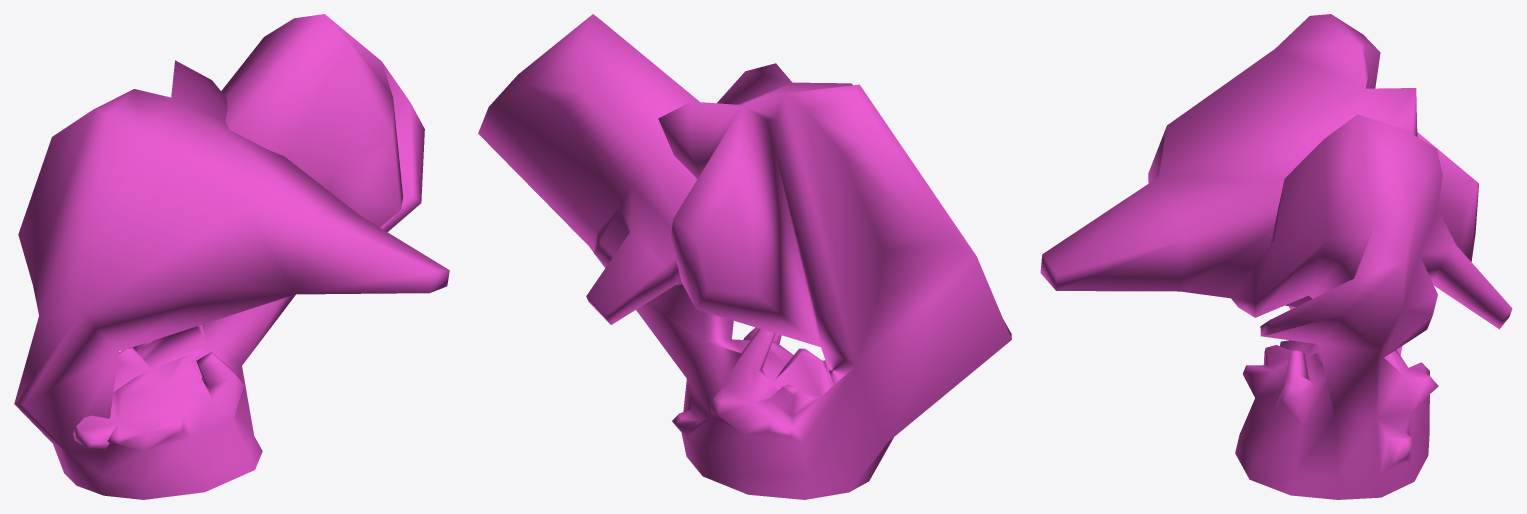
The model's file is jvacka.fbx.
The picture shows the model from 3 angles, left to right: view 1: azimuth 30°, elevation 25°; view 2: azimuth 150°, elevation 25°; view 3: azimuth 270°, elevation 25°; orthographic projection. The views are drawn at different scales.
Parts seen in each view (by area): view 1: Куб; view 2: Куб; view 3: Куб.
Boxes of the visible parts, bbox=[...] form: Куб: bbox=[14, 14, 449, 499]; Куб: bbox=[478, 14, 1011, 499]; Куб: bbox=[1040, 14, 1512, 499].
Bounding box in the file's own units: 1806 × 1528 × 1478.
